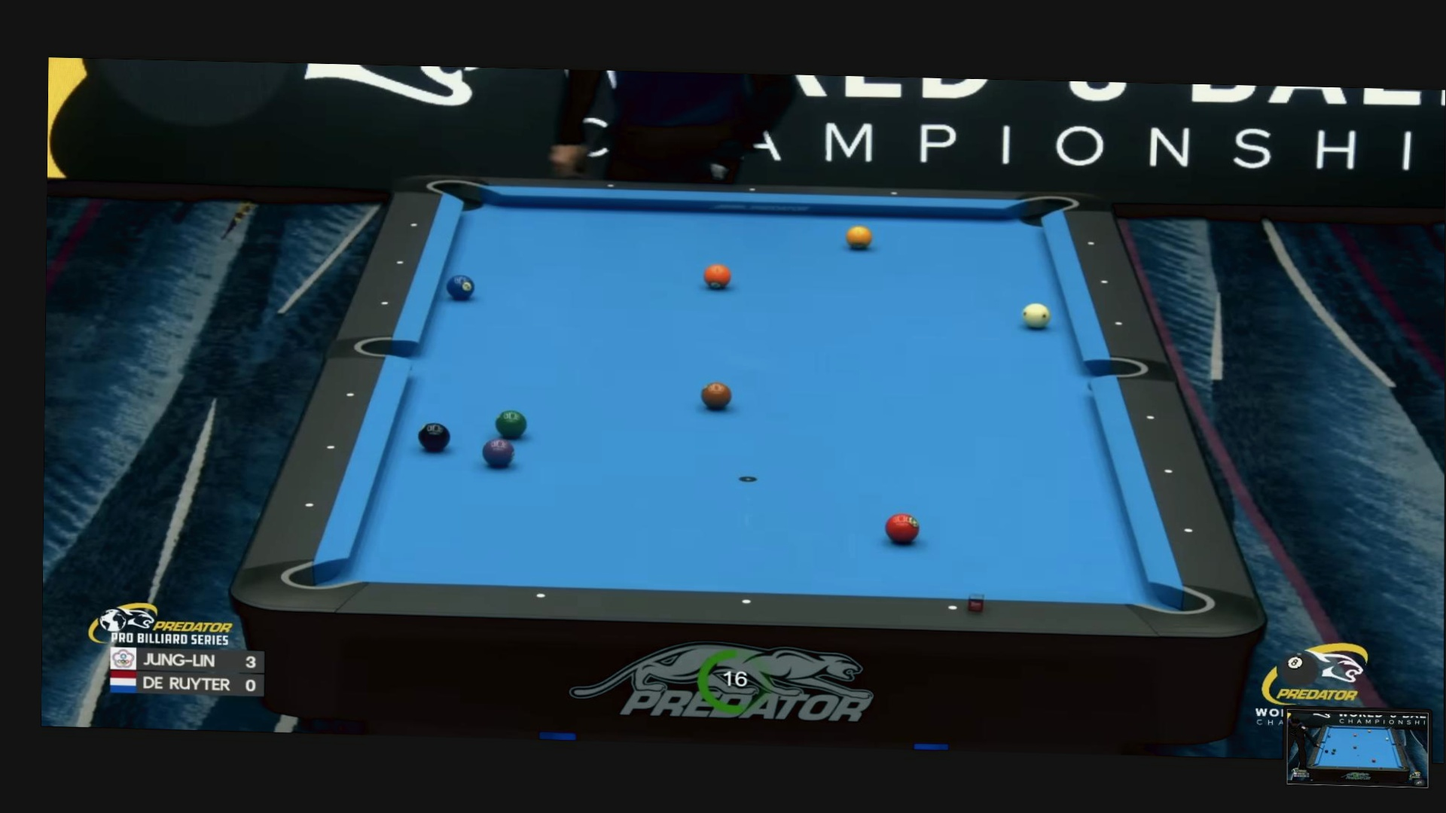Black: (417, 422, 451, 452)
Cue: (1022, 302, 1051, 329)
Solid: (534, 590, 547, 602), (740, 596, 753, 608), (946, 603, 959, 615), (1182, 525, 1194, 536), (1163, 466, 1175, 477), (407, 219, 419, 230), (395, 258, 406, 269), (1144, 412, 1156, 422), (325, 443, 336, 453), (344, 390, 355, 400), (379, 298, 390, 308), (304, 501, 315, 510), (1114, 319, 1123, 327), (1100, 278, 1109, 286), (1087, 239, 1096, 247), (606, 182, 615, 190), (748, 186, 757, 194), (891, 189, 899, 197)
Striped: (885, 512, 920, 545), (481, 437, 515, 467), (700, 380, 732, 410), (495, 409, 527, 438), (702, 263, 731, 289), (446, 274, 475, 300), (846, 225, 873, 250)
